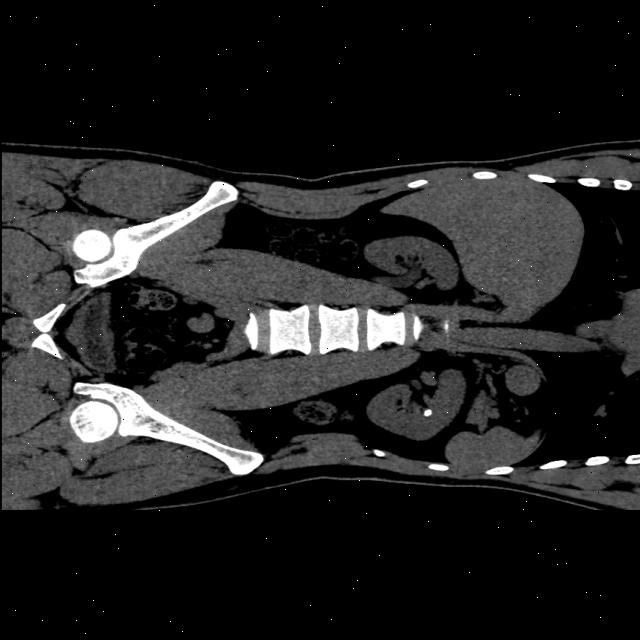kidneystone: (422, 409, 431, 416)
